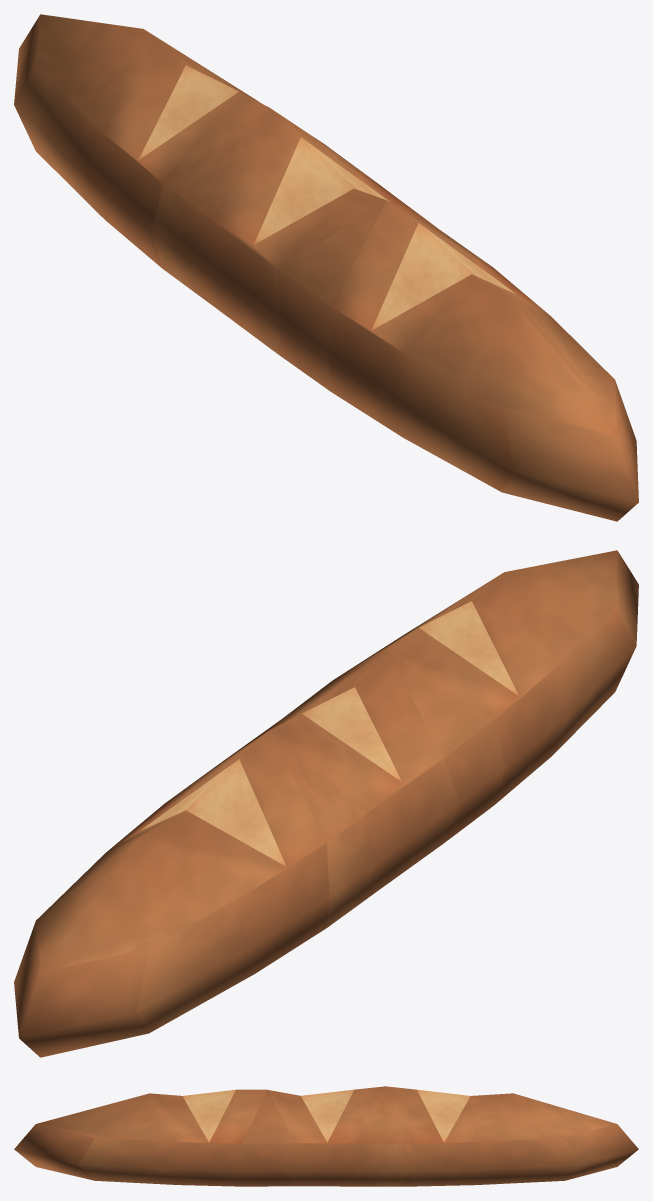
File: Baguette_A.FBX
3 views of the same model, one above another, from view 1: azimuth 30°, elevation 25°; view 2: azimuth 150°, elevation 25°; view 3: azimuth 270°, elevation 25° (orthographic). The views are drawn at different scales.
Visible parts, largest first — view 1: Baguette; view 2: Baguette; view 3: Baguette.
Boxes of the visible parts, x1,y1,x2,y2 form: Baguette: [14, 14, 638, 521]; Baguette: [14, 550, 638, 1057]; Baguette: [14, 1086, 638, 1186].
Bounding box in the file's own units: 40.44 × 35.05 × 246.
